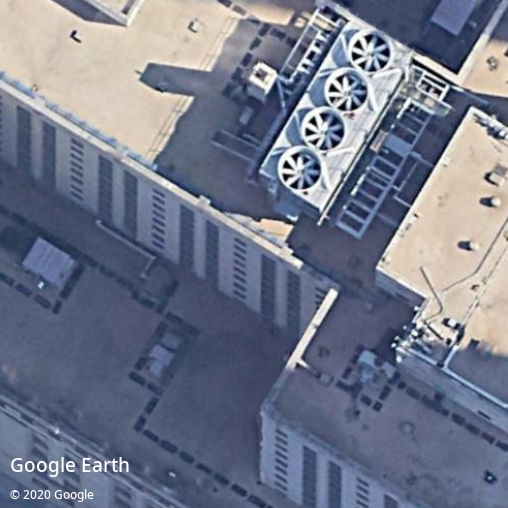Vent: (304, 111, 345, 150), (280, 151, 321, 190), (327, 73, 369, 111), (351, 33, 390, 72)
